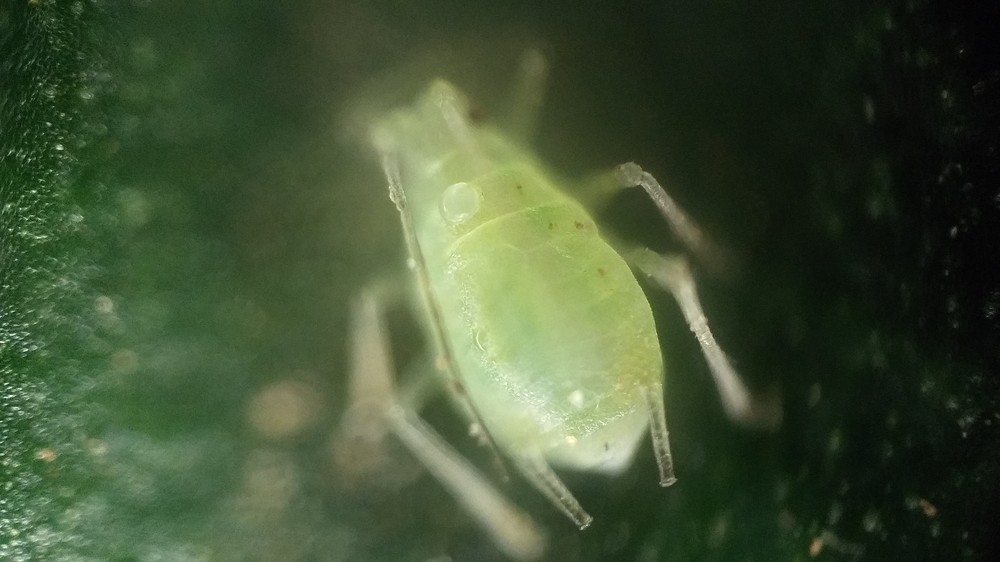Pulgon: (291, 39, 795, 554)
